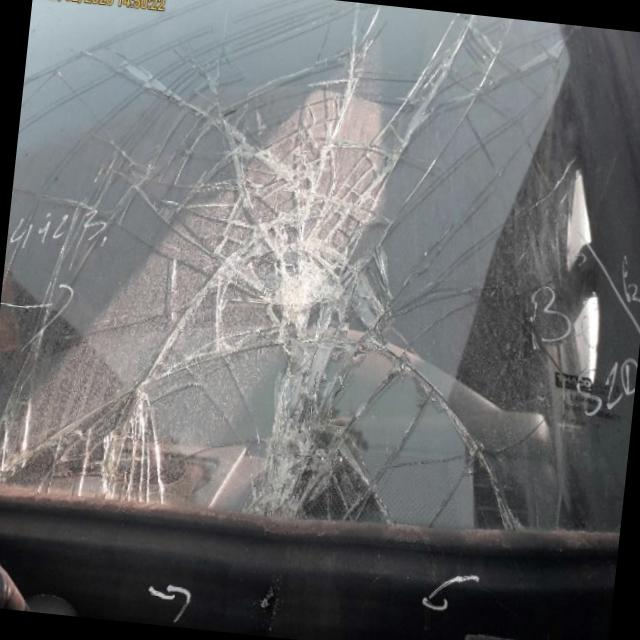Fissure: (161, 94, 448, 416), (323, 333, 554, 539), (0, 322, 172, 495), (21, 24, 231, 164), (384, 6, 582, 134), (1, 161, 168, 310), (474, 144, 607, 266), (252, 392, 358, 504)
